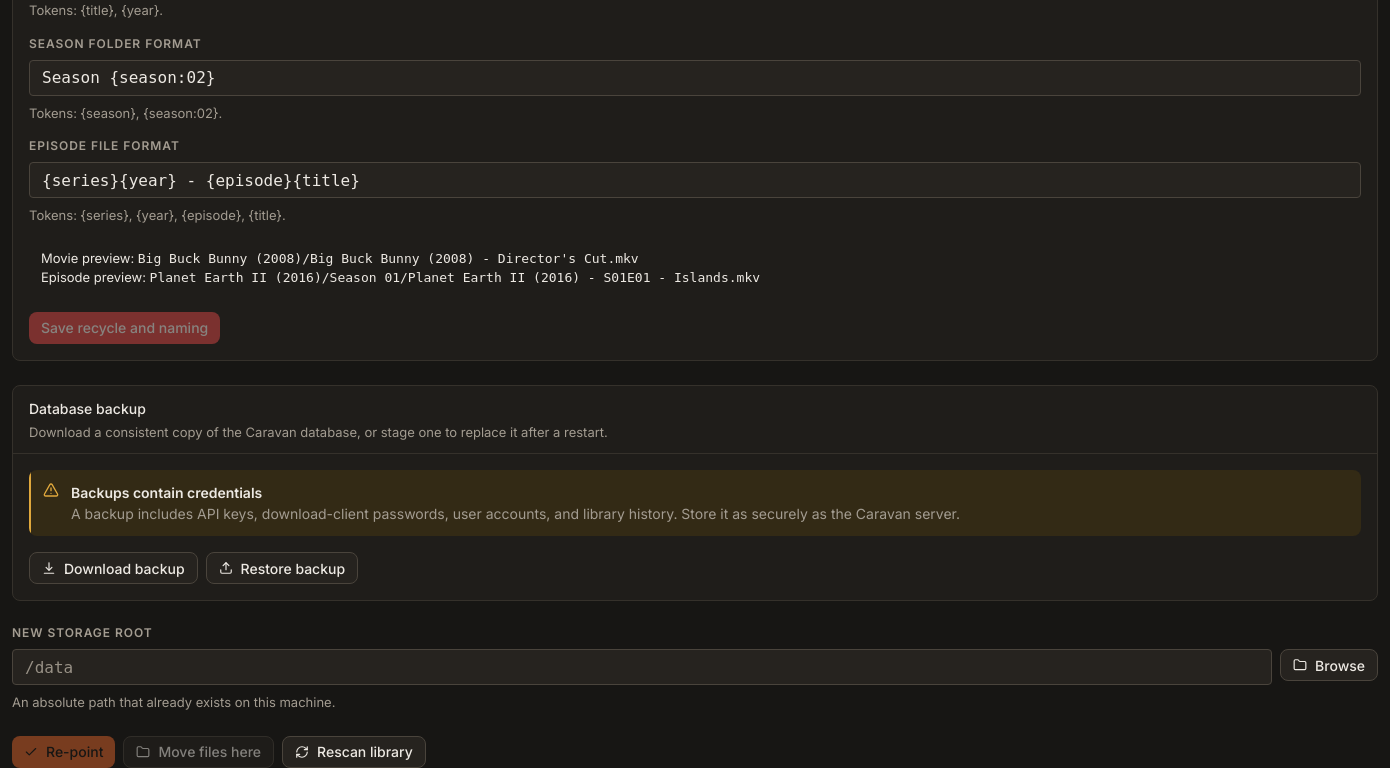
Test: Storage settings › shows the current root and refuses to act until a different one is typed
(page scrolled)
expect the button "Re-point" is disabled: met, box [12,736,115,767]
Type "/old-root" into the field with id "settings-storage-root" at (642, 667), box [12,649,1272,685]
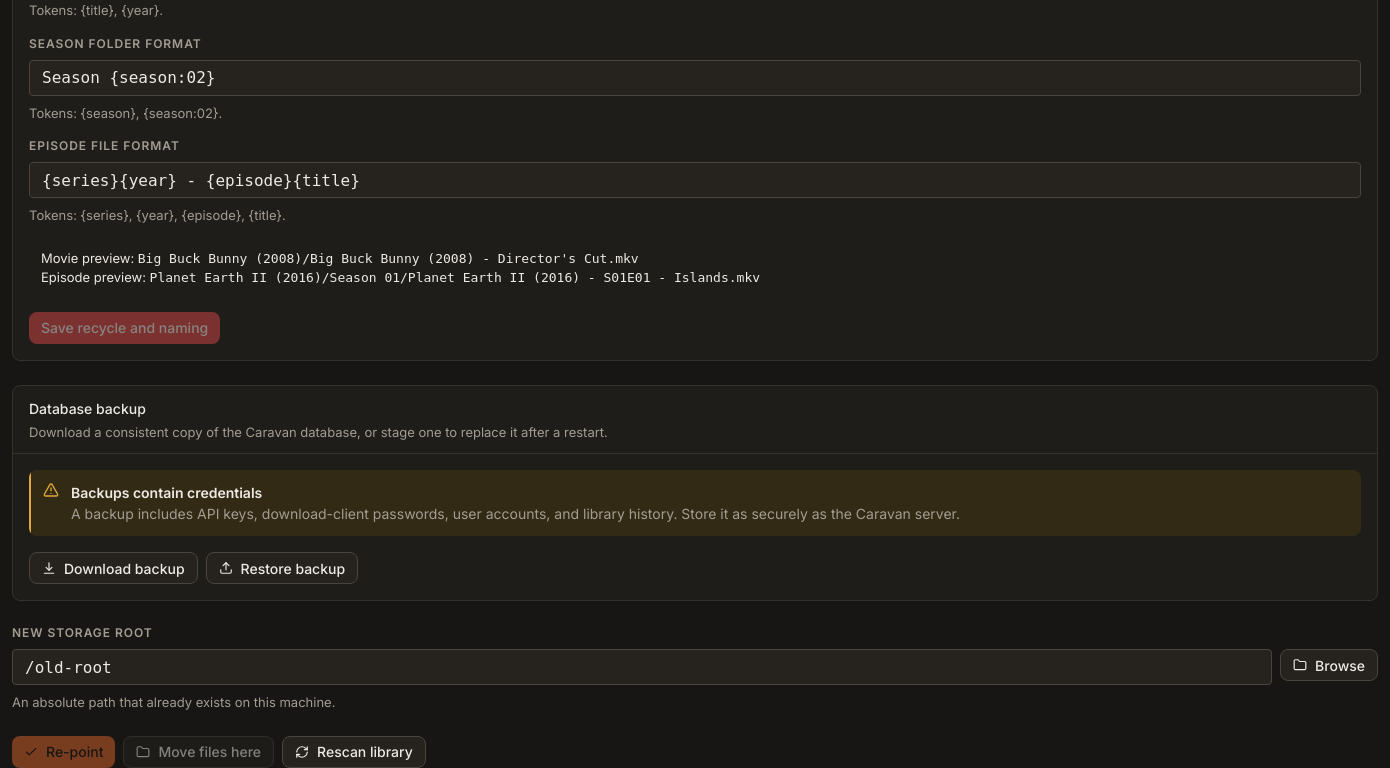
expect the button "Re-point" is disabled: met, box [12,736,115,767]
Replace the text in the field with id "settings-storage-root" with "/new-root" at (642, 667), box [12,649,1272,685]
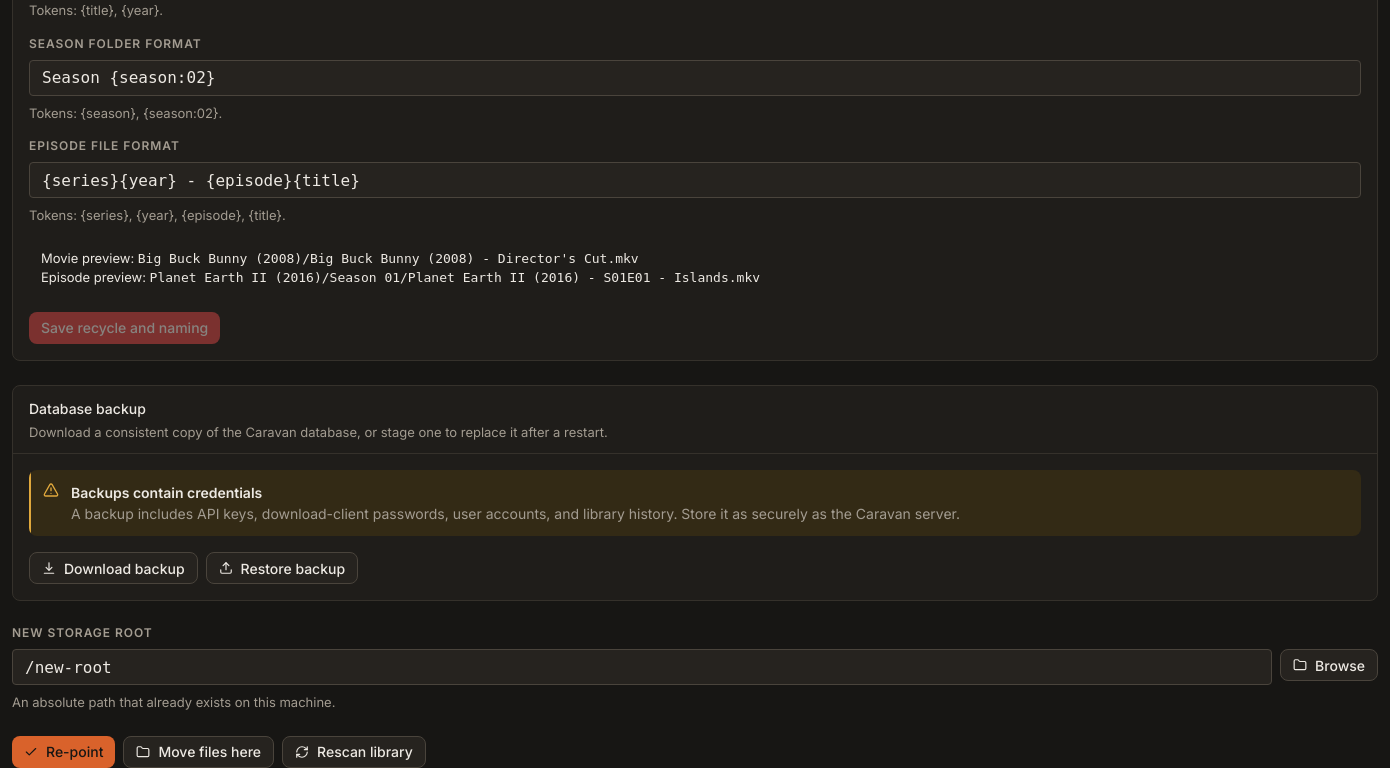
expect the button "Re-point" is enabled: met, box [12,736,115,767]
expect the button "Move files here" is enabled: met, box [123,736,274,767]
